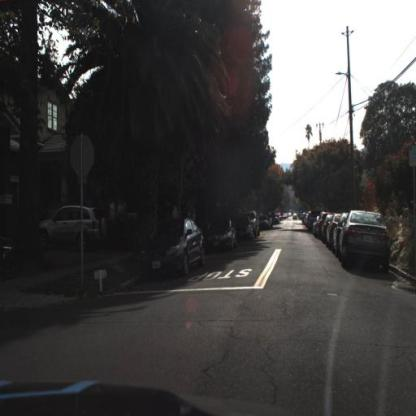car: (140, 217, 203, 277), (342, 209, 391, 276), (36, 203, 107, 247), (203, 219, 237, 252), (247, 209, 262, 238), (236, 216, 252, 240)
